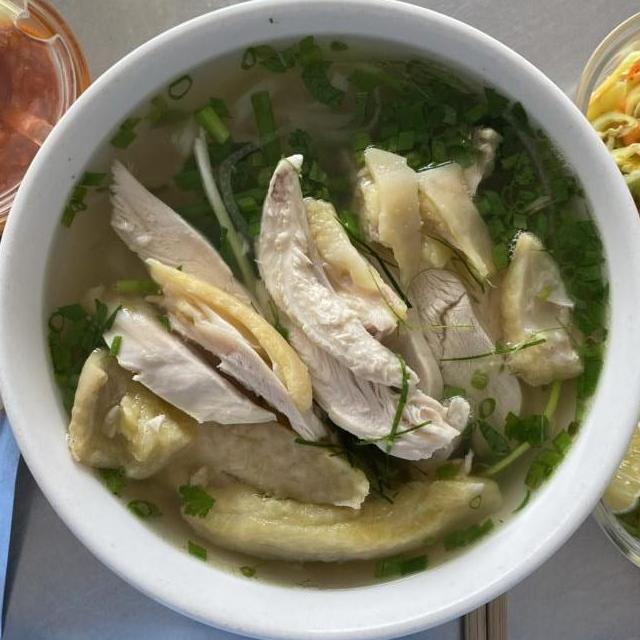banh pho: (167, 49, 388, 166)
pho ga: (40, 11, 640, 640)
thit ga: (251, 192, 476, 466), (341, 144, 542, 439), (61, 343, 377, 517), (247, 149, 426, 396), (173, 447, 512, 570), (136, 251, 332, 445), (99, 154, 278, 343), (75, 280, 280, 431), (405, 121, 519, 288), (489, 225, 591, 392)
